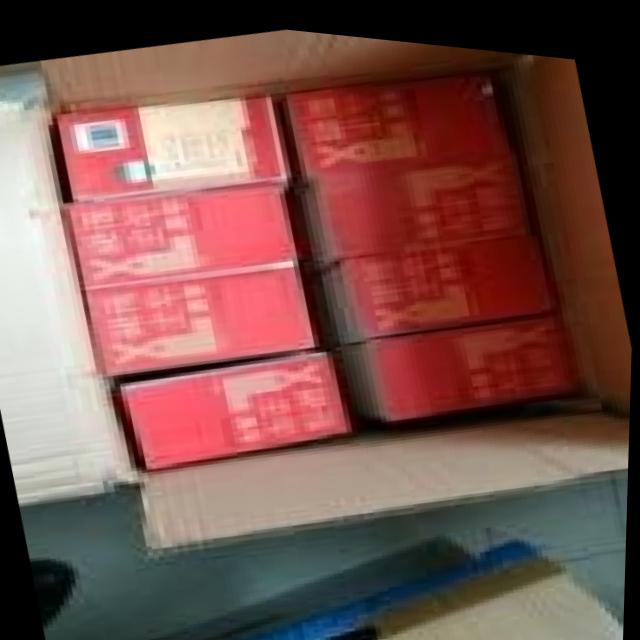box: (0, 23, 633, 549), (311, 549, 627, 640)
